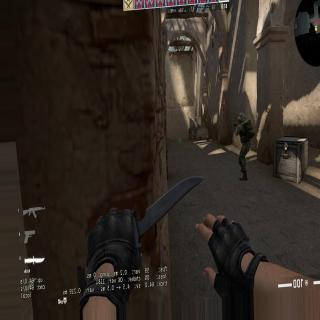CT-Body: (233, 110, 254, 183)
CT-Head: (238, 112, 246, 123)
